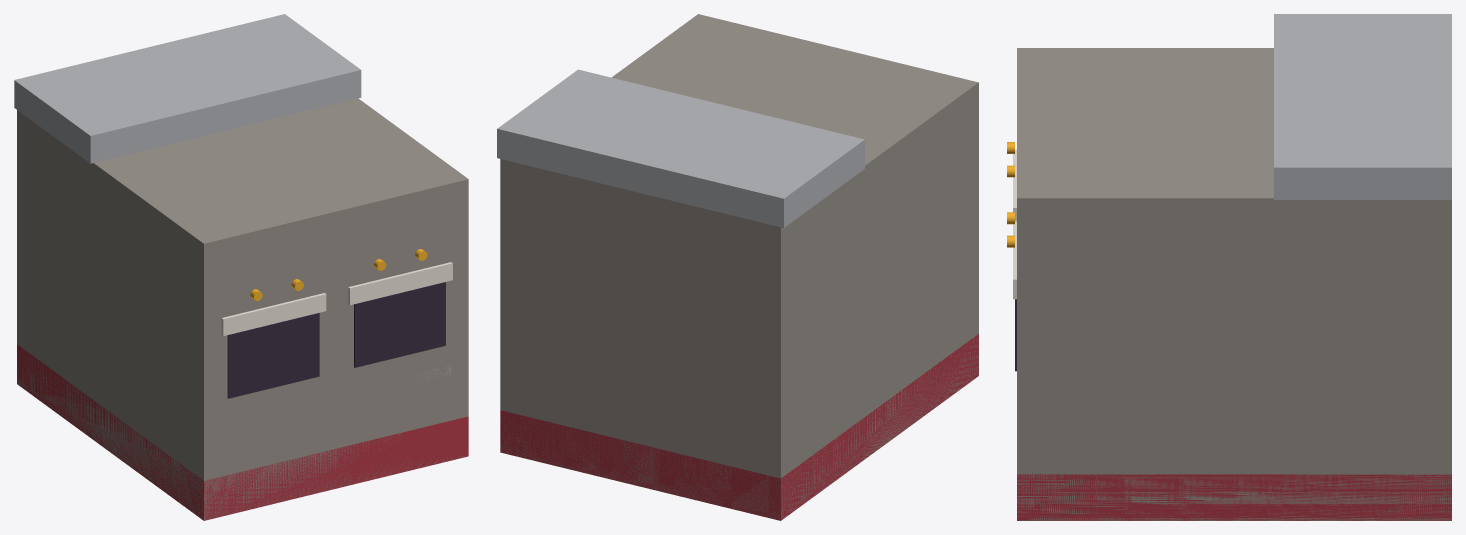
Rendered from pizza_oven.glb.
3 renders of one model, left to right at view 1: azimuth 30°, elevation 25°; view 2: azimuth 150°, elevation 25°; view 3: azimuth 270°, elevation 25°, orthographic. The views are drawn at different scales.
Parts seen in each view (by area): view 1: oven_body, hood, brick_base, deck_mouth_0, deck_mouth_1, deck_lintel_0, deck_lintel_1; view 2: oven_body, hood, brick_base; view 3: oven_body, hood, brick_base.
Boxes of the visible parts, x1=… form: oven_body: x1=17, y1=98, x2=468, y2=520; hood: x1=14, y1=14, x2=361, y2=163; brick_base: x1=17, y1=344, x2=468, y2=520; deck_mouth_0: x1=227, y1=313, x2=319, y2=398; deck_mouth_1: x1=354, y1=282, x2=445, y2=367; deck_lintel_0: x1=221, y1=293, x2=326, y2=335; deck_lintel_1: x1=348, y1=262, x2=452, y2=305; oven_body: x1=500, y1=14, x2=978, y2=520; hood: x1=497, y1=69, x2=864, y2=227; brick_base: x1=500, y1=334, x2=978, y2=520; oven_body: x1=1017, y1=48, x2=1451, y2=520; hood: x1=1274, y1=14, x2=1451, y2=199; brick_base: x1=1017, y1=474, x2=1451, y2=520.
Bounding box in the file's own units: 1.84 × 1.98 × 2.25.
